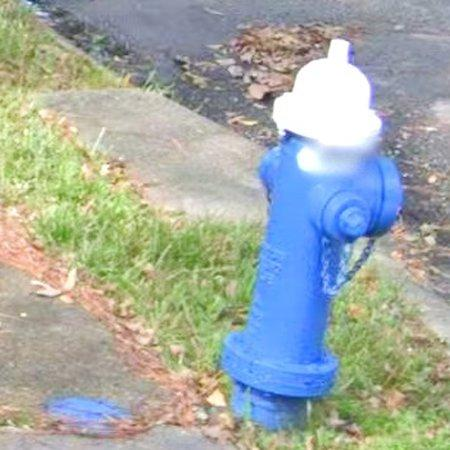a fire hydrant: (223, 39, 404, 431)
